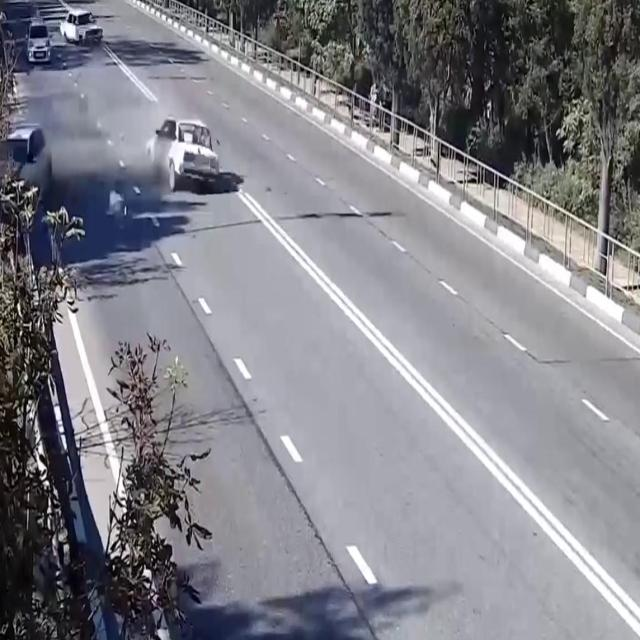accident: (0, 99, 131, 236), (102, 107, 226, 223)
non_accident: (21, 1, 107, 74)
